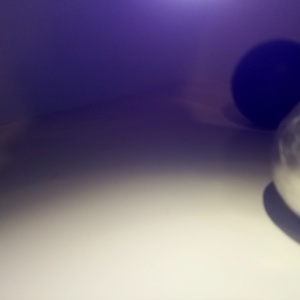alive_ball: (270, 104, 300, 218)
dead_ball: (231, 39, 300, 129)
